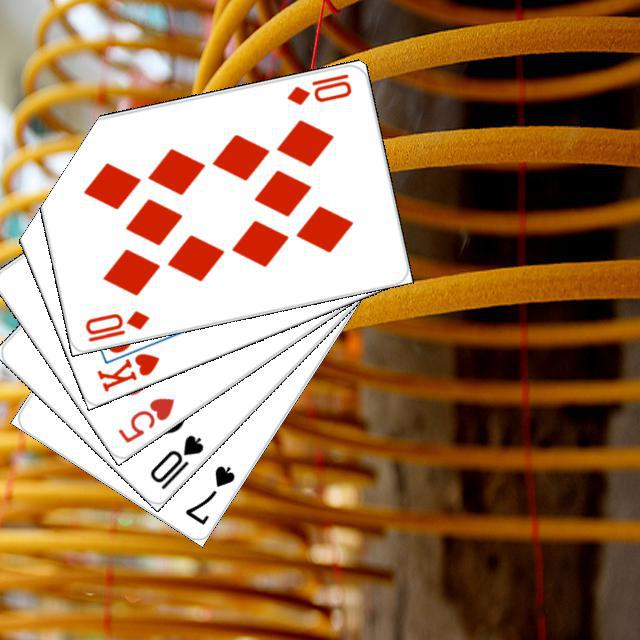10d: (282, 68, 354, 107), (80, 305, 151, 344)
10s: (145, 429, 206, 492)
5h: (112, 392, 176, 445)
7s: (180, 460, 237, 527)
Kh: (91, 335, 162, 394)
